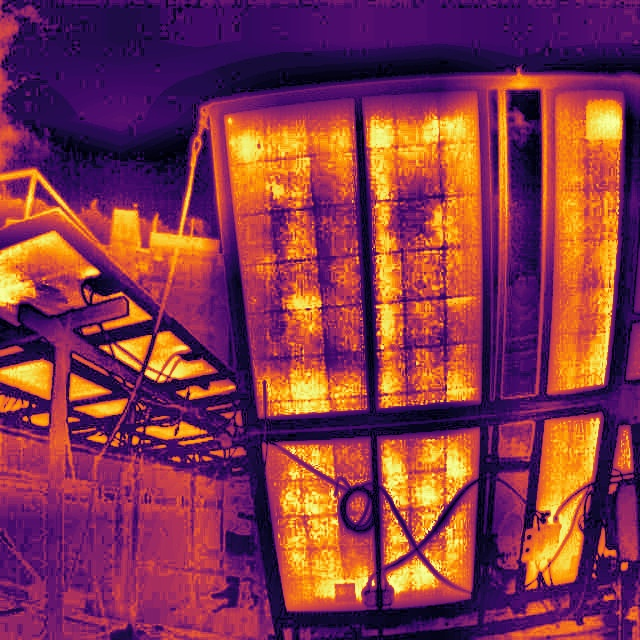Hotspot: (587, 92, 621, 139)
Moderate: (587, 92, 621, 139)
healthy_panel: (225, 100, 367, 416), (363, 91, 482, 408), (547, 89, 622, 391), (264, 439, 374, 610), (380, 430, 479, 604), (536, 414, 602, 512), (554, 548, 580, 582)
